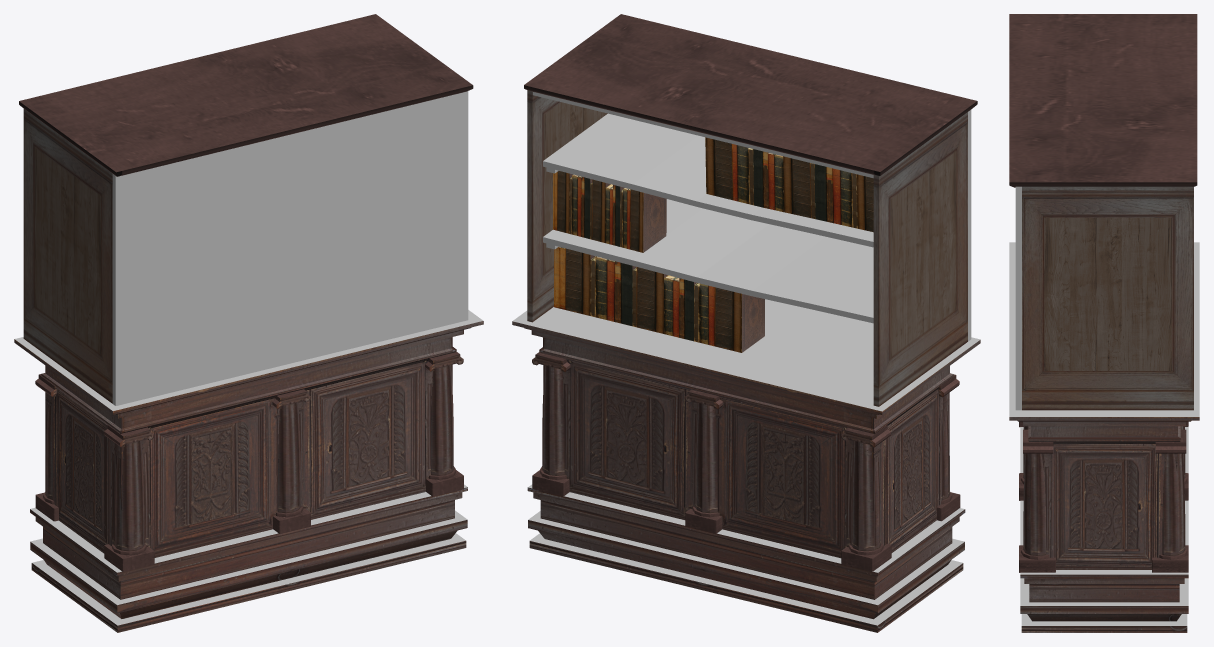
The model's file is cabinet1.fbx.
The picture shows the model from 3 angles, left to right: view 1: azimuth 30°, elevation 25°; view 2: azimuth 150°, elevation 25°; view 3: azimuth 270°, elevation 25°; orthographic projection. The views are drawn at different scales.
Visible parts, largest first — view 1: cabinet1; view 2: cabinet1; view 3: cabinet1.
Boxes of the visible parts, x1=… form: cabinet1: x1=14, y1=14, x2=483, y2=632; cabinet1: x1=512, y1=14, x2=980, y2=632; cabinet1: x1=1009, y1=14, x2=1199, y2=632.
Bounding box in the file's own units: 135 × 163 × 62.42.
